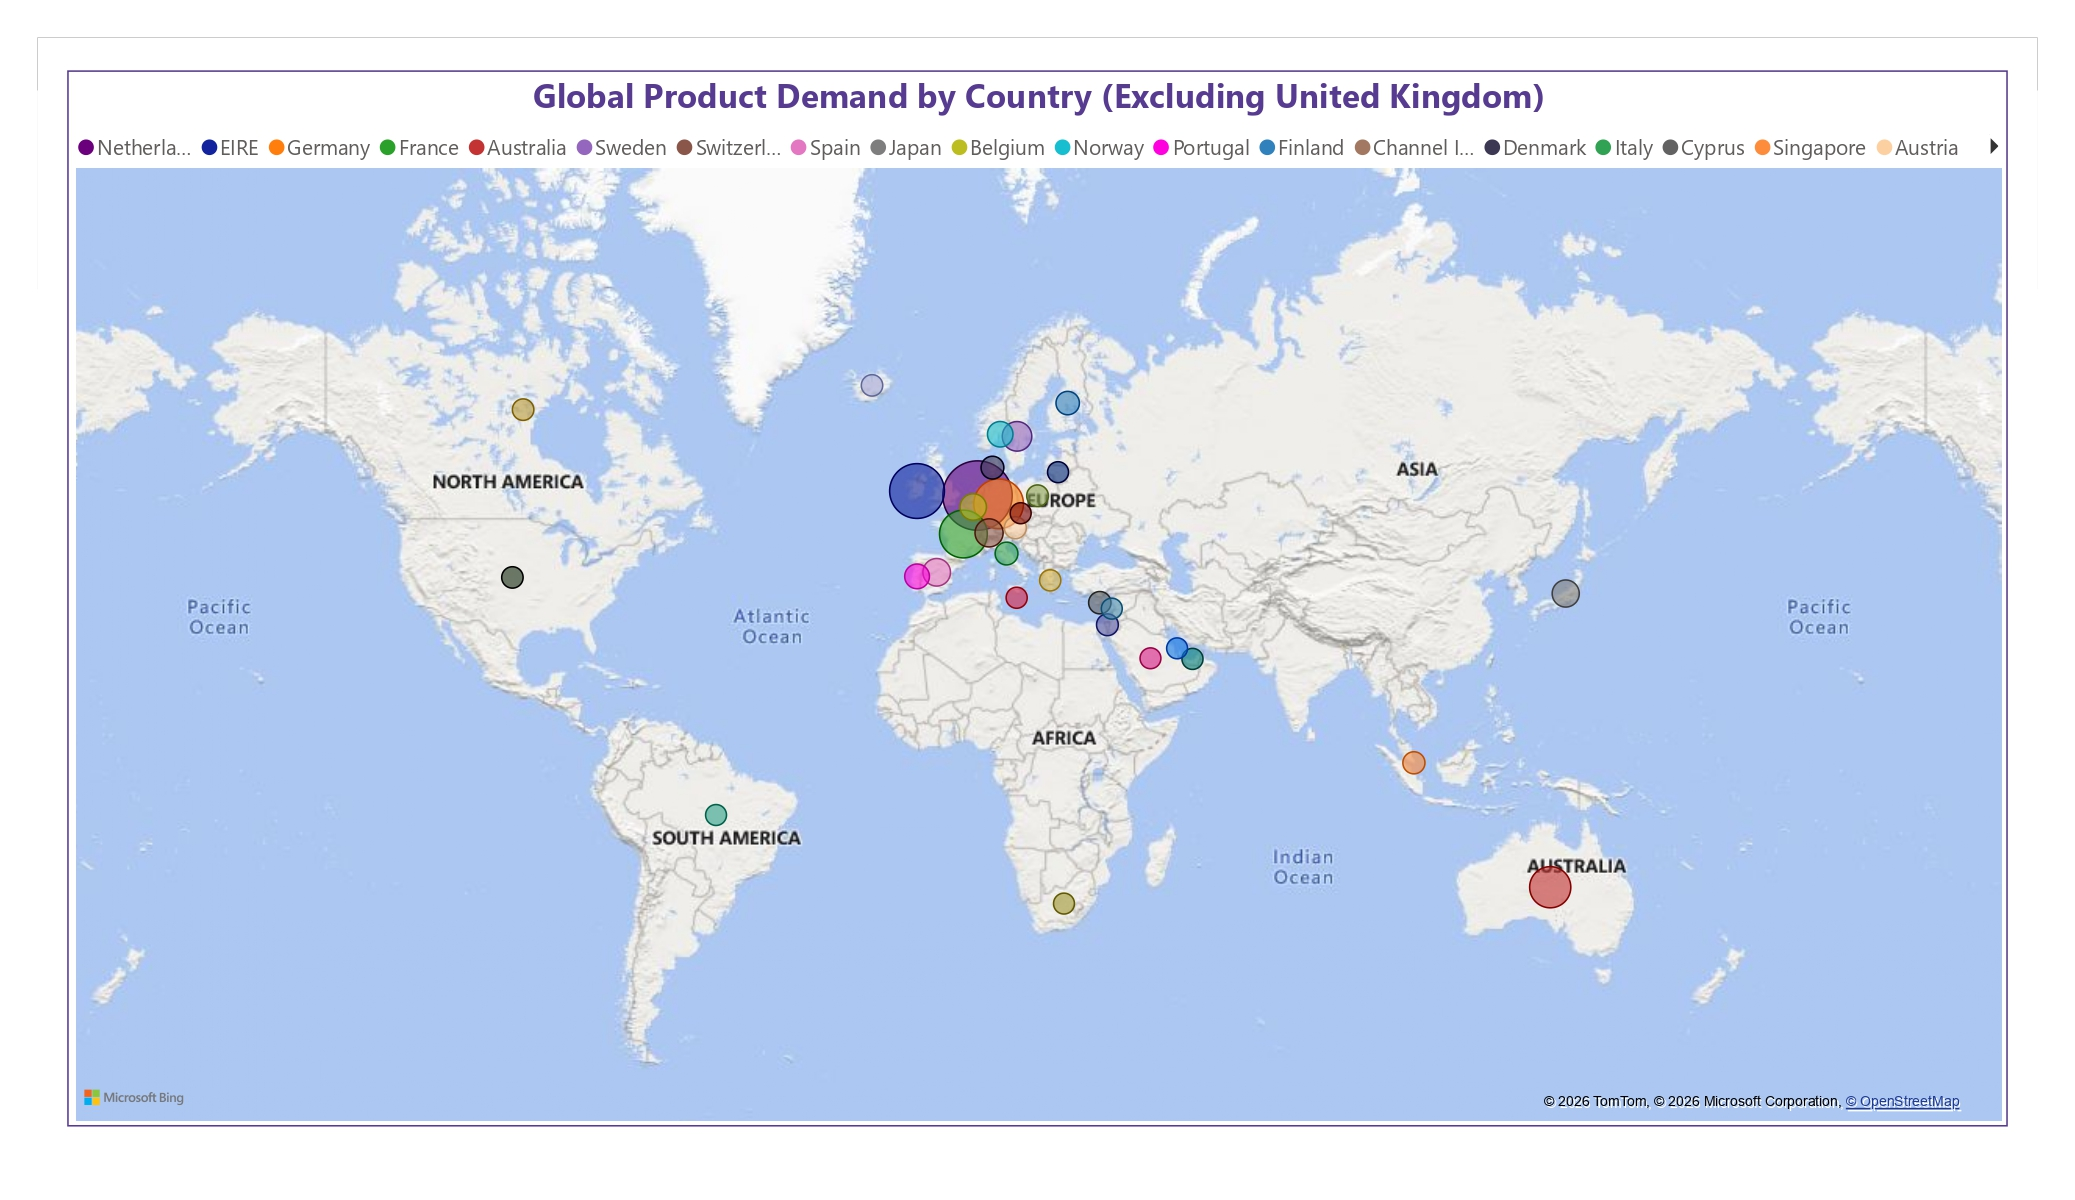

This screenshot's page, from the dashboard's own definition file:
{"tool":"powerbi","page":{"name":"Question-4","canvas":[1280,720],"ordinal":3},"visuals":[{"type":"map","title":"Global Product Demand by Country (Excluding United Kingdom)","fields":{"Category":["Online Retail.Country"],"Size":["Sum(Online Retail.Quantity)"],"Series":["Online Retail.Country"]},"box":[19,20.9,1241.6,676],"z":0}]}

Visuals, with their boxes in screenshot pixels (x1, y1, x2, y2):
"Global Product Demand by Country (Excluding United Kingdom)" map: detection(67, 70, 2007, 1126)
